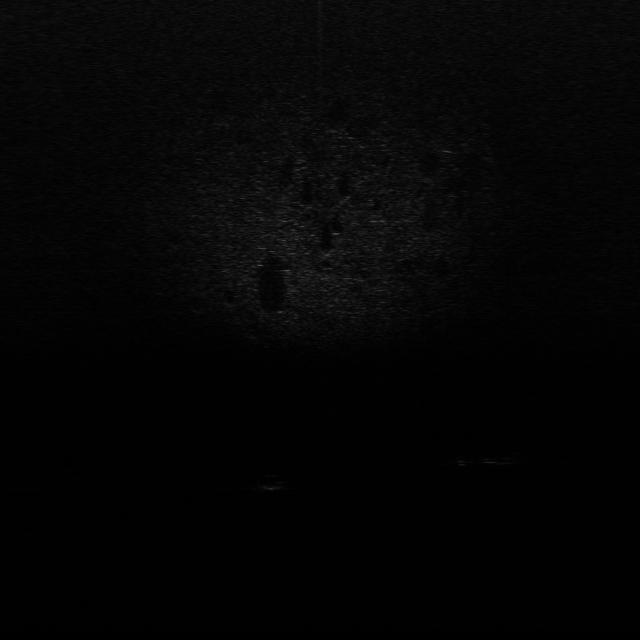ball: (257, 472, 287, 493)
human body: (450, 448, 540, 470)
